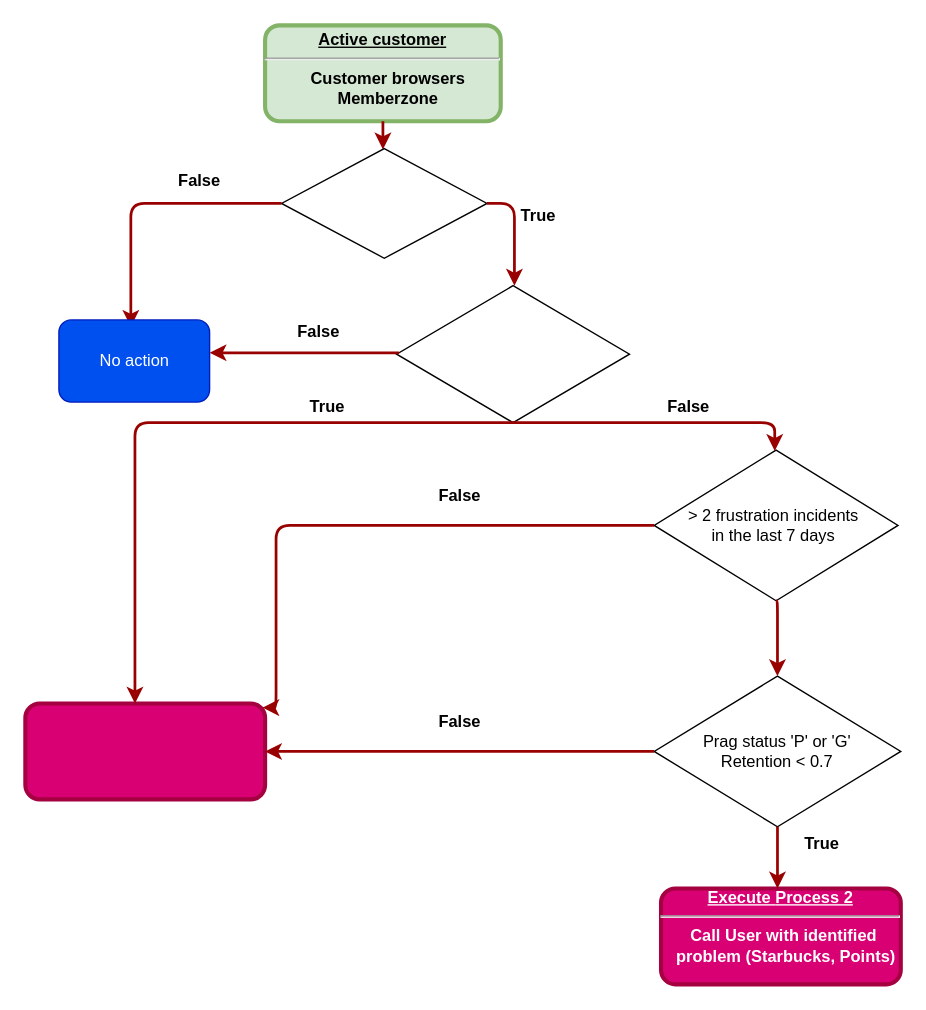
This 926x1010 diagram has some shape labels left out. Each missing label, with the centre of its shape:
"1st frustration incident" goes at pixel 512 353.
"Execute Process 1 Text user with identified problem (Starbucks, Points)" goes at pixel 144 751.
"Frustration incident?" goes at pixel 383 202.
